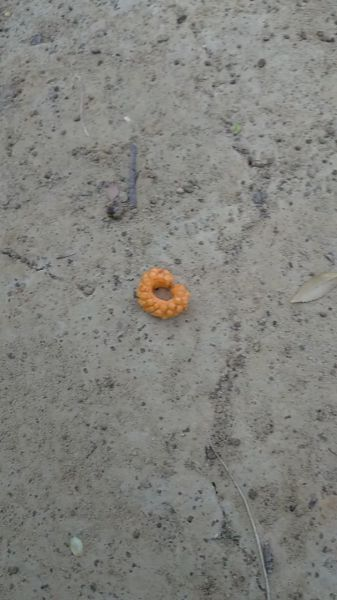eggs: (129, 257, 199, 324)
